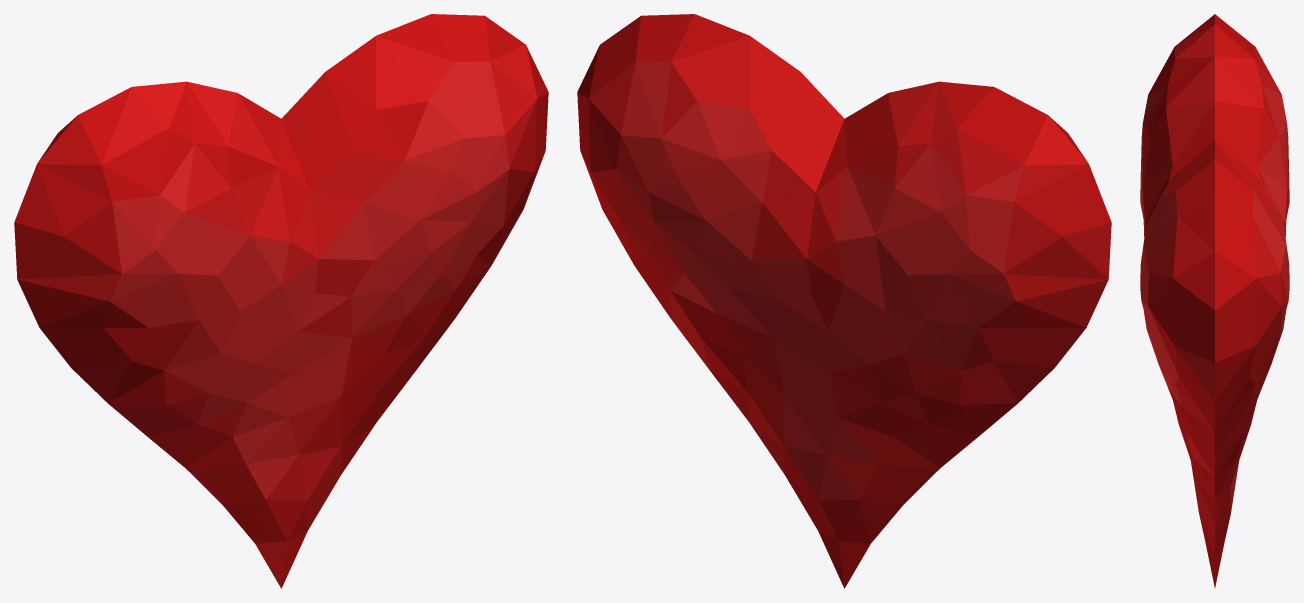
The model's file is heart_lp.FBX.
3 views of the same model, side by side, from view 1: azimuth 30°, elevation 25°; view 2: azimuth 150°, elevation 25°; view 3: azimuth 270°, elevation 25° (orthographic). The views are drawn at different scales.
Parts seen in each view (by area): view 1: Line002; view 2: Line002; view 3: Line002.
Boxes of the visible parts, x1=… form: Line002: x1=14, y1=14, x2=548, y2=588; Line002: x1=577, y1=14, x2=1111, y2=588; Line002: x1=1140, y1=14, x2=1289, y2=587.
Bounding box in the file's own units: 36.32 × 9.53 × 34.98.
1 material, 1 textured.
